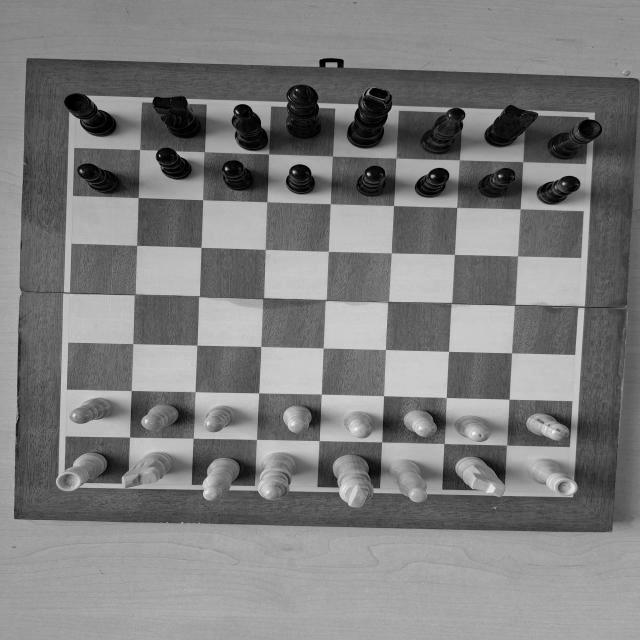chess-table-corners: (577, 110, 600, 125), (560, 485, 578, 500)
